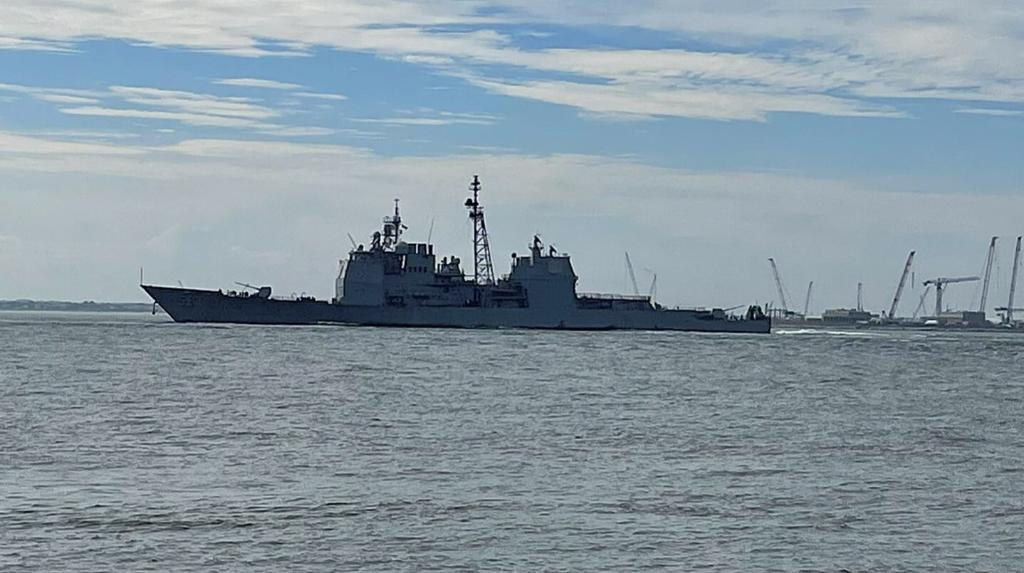Warship: (134, 172, 784, 338)
